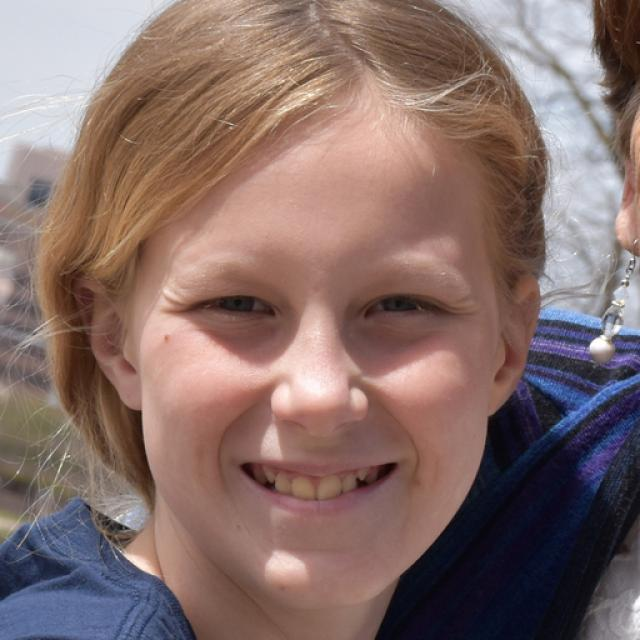happy: (138, 122, 494, 608)
